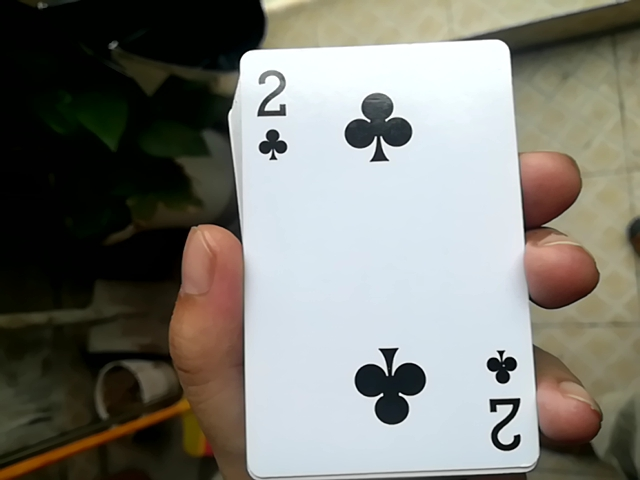mh 2: (219, 34, 535, 478)
